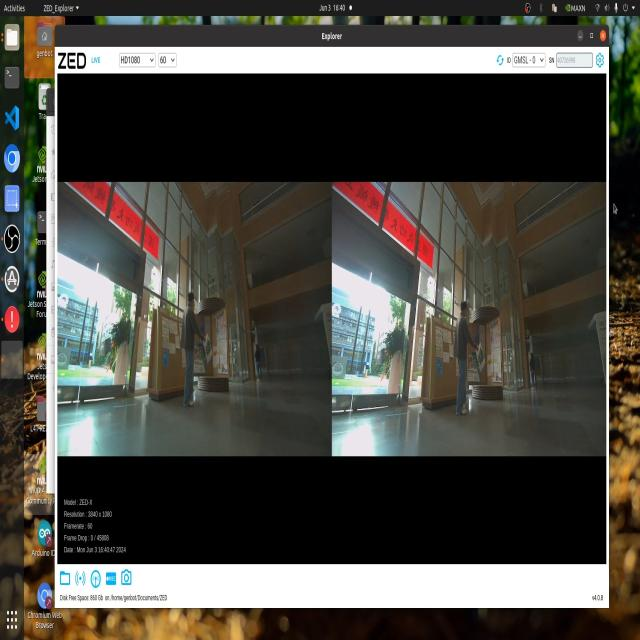green: (202, 322, 215, 359), (475, 345, 486, 370)
